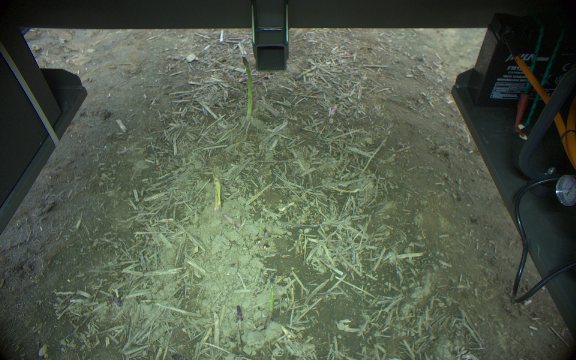aspa: (241, 55, 254, 125), (262, 273, 277, 333), (210, 168, 223, 211)
